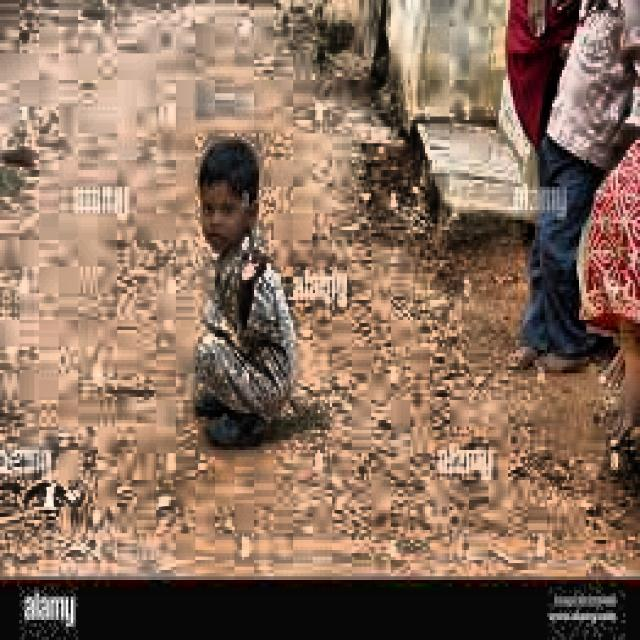Human: (161, 128, 314, 442)
